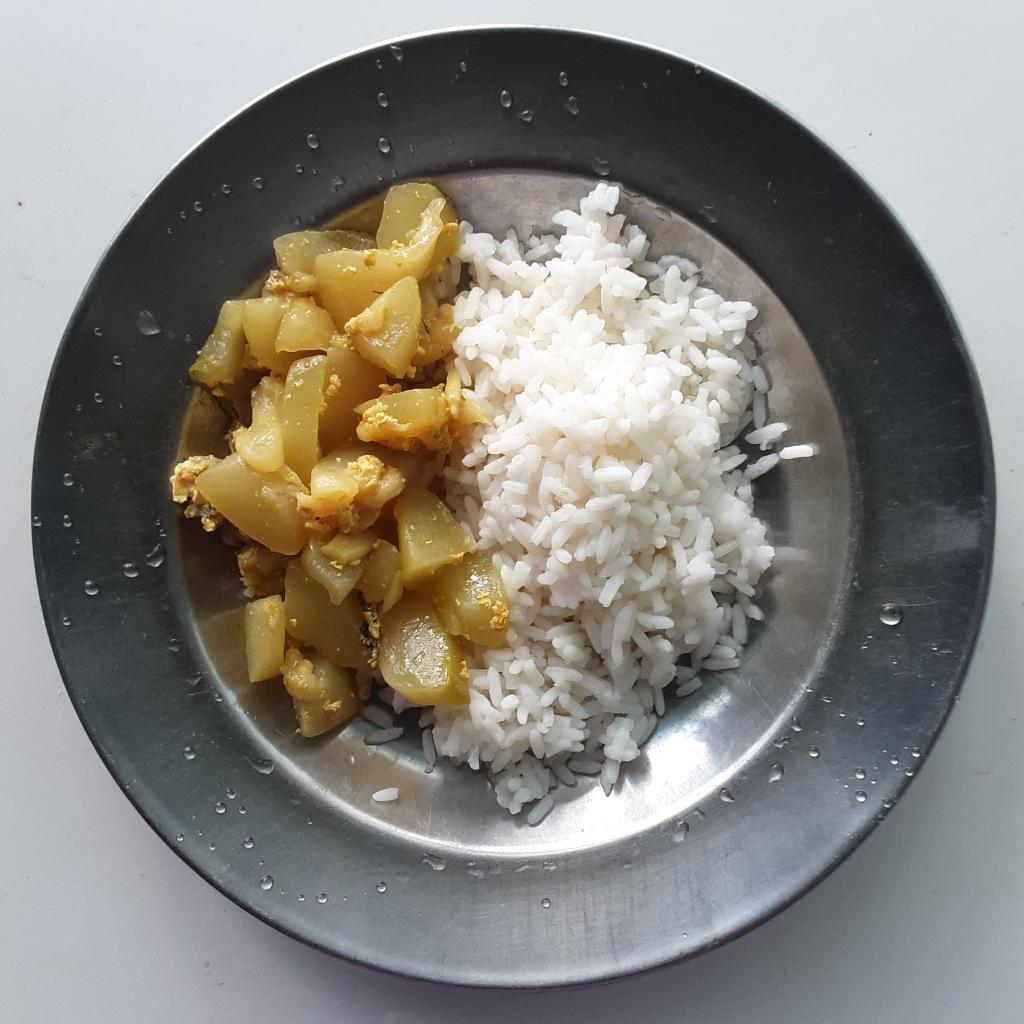egg: (163, 452, 226, 529)
papaya: (180, 179, 513, 734)
rice: (421, 174, 817, 825)
